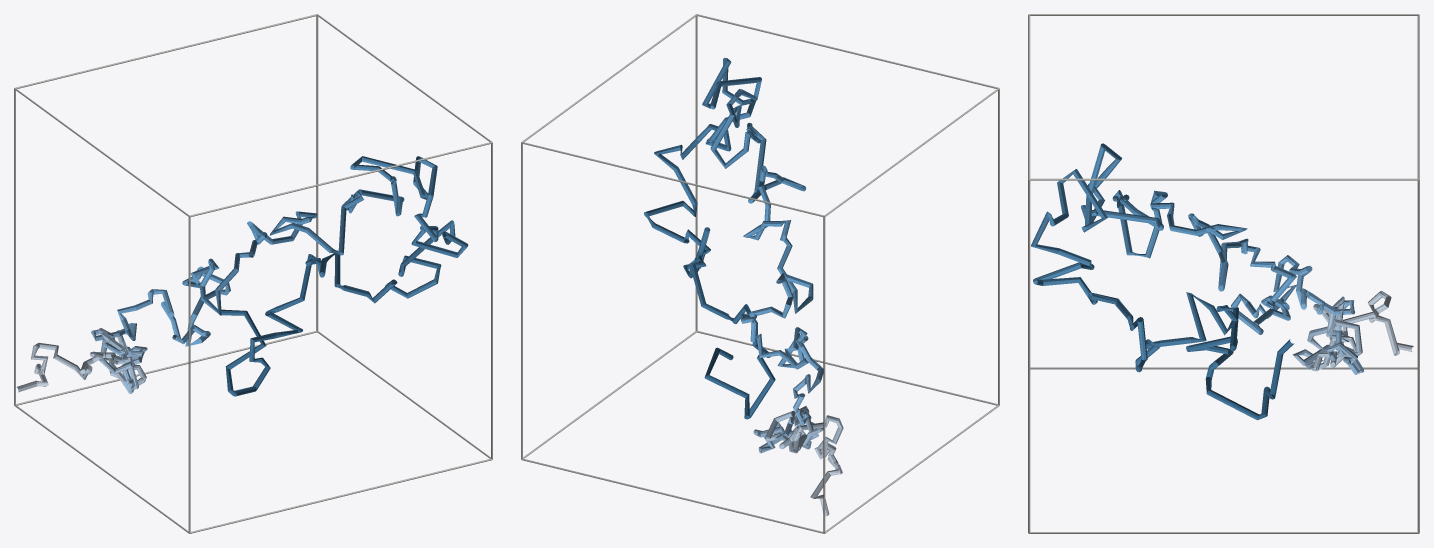
The picture shows the model from 3 angles, left to right: view 1: azimuth 30°, elevation 25°; view 2: azimuth 150°, elevation 25°; view 3: azimuth 270°, elevation 25°; orthographic projection. The views are drawn at different scales.
Visible parts, largest first — view 1: geometry_0, geometry_1; view 2: geometry_0, geometry_1; view 3: geometry_0, geometry_1.
Boxes of the visible parts, <box> form: geometry_0: <box>16,156,468,396</box>; geometry_1: <box>14,14,492,533</box>; geometry_0: <box>644,58,843,516</box>; geometry_1: <box>521,14,999,533</box>; geometry_0: <box>1031,143,1413,420</box>; geometry_1: <box>1028,14,1419,533</box>.
Bounding box in the file's own units: 0.3044 × 0.3014 × 0.3016.
